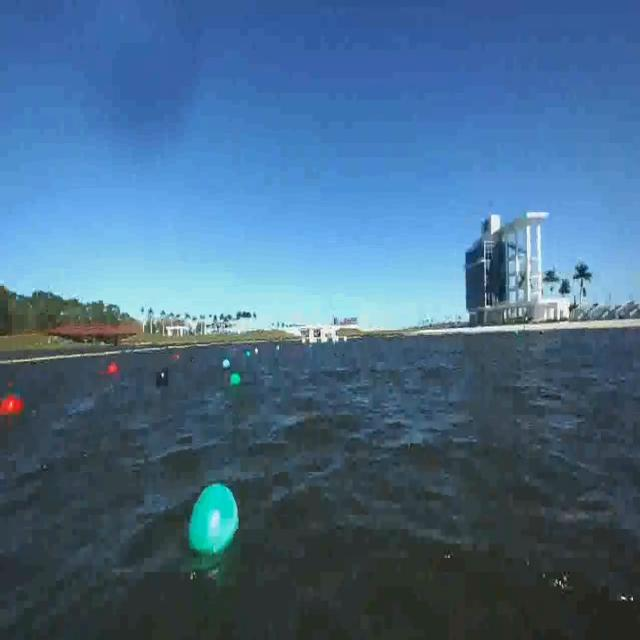black-buoy: (157, 368, 171, 388)
green-buoy: (188, 481, 242, 558), (232, 372, 242, 388), (222, 356, 232, 368)
red-buoy: (0, 396, 26, 416), (107, 359, 118, 374)
